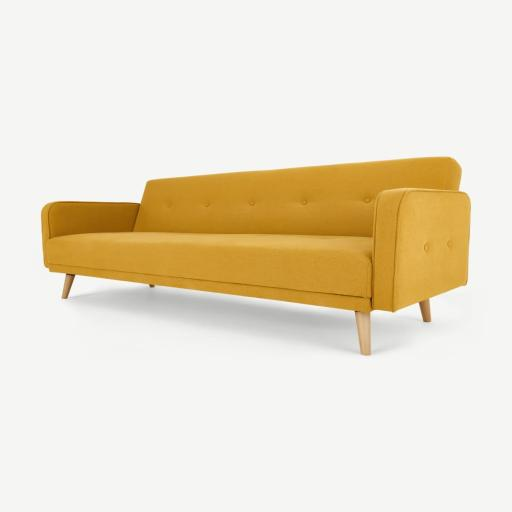back_cushion: (132, 157, 460, 236)
left_arm: (372, 189, 470, 321)
legs: (356, 311, 370, 355), (62, 274, 74, 298), (420, 300, 430, 322)
right_arm: (43, 202, 139, 267)
seat_cushion: (46, 232, 371, 298)
two-seater: (0, 0, 511, 512)
